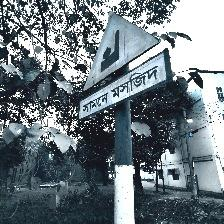Mosque in front: (78, 12, 171, 122)
